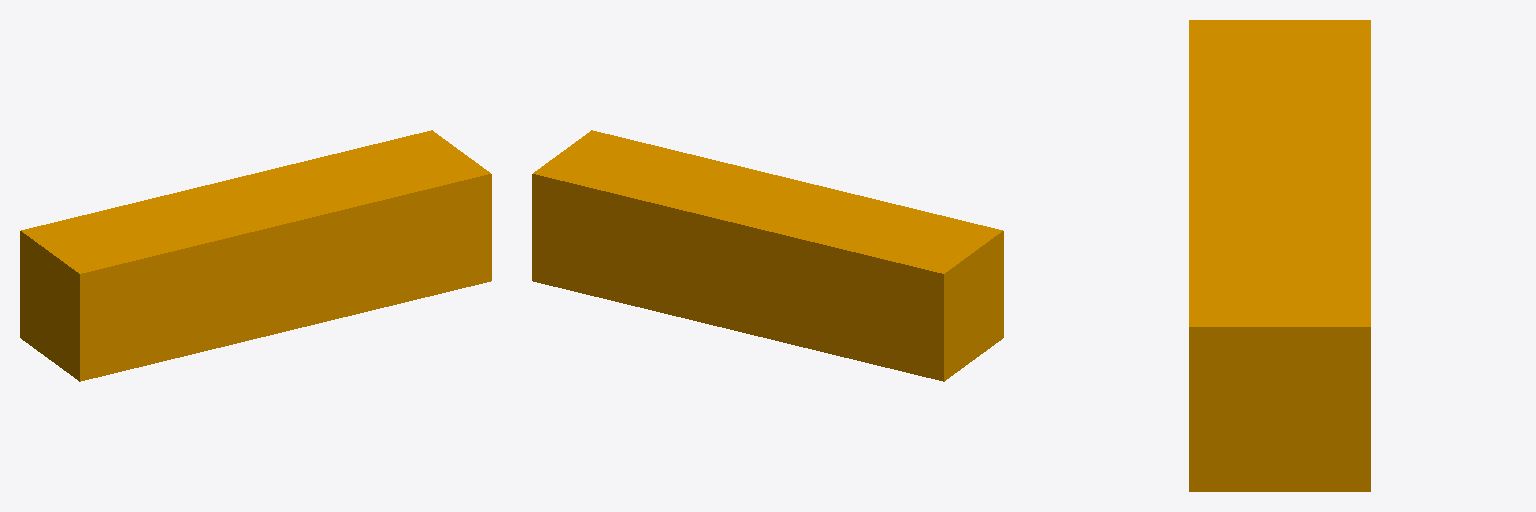
The robot description file, URDF, robot "dreamer_testbed_floating_camera":
<?xml version="1.0"?>
<robot name="dreamer_testbed_floating_camera" xmlns:controller="http://playerstage.sourceforge.net/gazebo/xmlschema/#controller" xmlns:interface="http://playerstage.sourceforge.net/gazebo/xmlschema/#interface" xmlns:sensor="http://playerstage.sourceforge.net/gazebo/xmlschema/#sensor" xmlns:xacro="http://ros.org/wiki/xacro">

  <link name="camera_link">
    <inertial>
      <mass value="0.1"/>
      <origin xyz="0 0 0" rpy="0 0 0"/>
      <inertia izz="1e-1"
               ixx="1e-1"
               iyy="1e-1"
               ixy="0" iyz="0" ixz="0"/>
    </inertial>
    <visual>
      <origin xyz="0 0 0" rpy="0 0 0"/>
      <geometry name="arm_drop_geom">
        <box size="0.08 0.02 0.02"/>
      </geometry>
    </visual>
    <collision>
      <origin xyz="0 0 0" rpy="0 0 0"/>
      <geometry name="arm_drop_col">
        <box size="0.08 0.02 0.02"/>
      </geometry>
    </collision>
  </link>

  <gazebo reference="camera_link" version="1.9">
    <material>Gazebo/Purple</material>
    <sensor type="camera" name="webcam">
      <update_rate>30.0</update_rate>
      <always_on>true</always_on>
      <visualize>true</visualize>
      <camera name="webcam">
        <horizontal_fov>1.3962634</horizontal_fov>
        <image>
          <width>800</width>
          <height>800</height>
          <format>R8G8B8</format>
        </image>
        <clip>
          <near>0.02</near>
          <far>300</far>
        </clip>
        <noise>
          <type>gaussian</type>
          <!-- Noise is sampled independently per pixel on each frame.
               That pixel's noise value is added to each of its color
               channels, which at that point lie in the range [0,1]. -->
          <mean>0.0</mean>
          <stddev>0.007</stddev>
        </noise>
      </camera>
      <plugin name="webcam1_plugin" filename="libgazebo_ros_camera.so">
        <alwaysOn>true</alwaysOn>
        <updateRate>0.0</updateRate>
        <cameraName>dreamer_testbed/webcam</cameraName>
        <imageTopicName>floating_image_raw</imageTopicName>
        <cameraInfoTopicName>floating_camera_info</cameraInfoTopicName>
        <frameName>camera_link</frameName>
        <hackBaseline>0.07</hackBaseline>
        <distortionK1>0.0</distortionK1>
        <distortionK2>0.0</distortionK2>
        <distortionK3>0.0</distortionK3>
        <distortionT1>0.0</distortionT1>
        <distortionT2>0.0</distortionT2>
      </plugin>
    </sensor>
  </gazebo>

  <gazebo version='1.2'>
    <!-- The following plugin pins the robot to the world. -->
    <!-- <plugin filename="libPinPlugin.so" name="PinPlugin_FloatingCamera">
        <pin_root_link>1</pin_root_link>
    </plugin> -->
    <static>true</static>
  </gazebo>
</robot>

--- Render facts (derived) ---
The picture shows the robot from 3 angles, left to right: view 1: azimuth 30°, elevation 25°; view 2: azimuth 150°, elevation 25°; view 3: azimuth 270°, elevation 25°; orthographic projection.
Model dreamer_testbed_floating_camera with 1 links and 0 joints (none), rooted at camera_link, posed all joints at 0.
Visible links, largest first — view 1: camera_link; view 2: camera_link; view 3: camera_link.
Boxes of the visible links, <box> form: camera_link: <box>20,130,491,381</box>; camera_link: <box>532,130,1003,381</box>; camera_link: <box>1189,20,1370,491</box>.
Bounding box of the posed robot: 0.08 × 0.02 × 0.02 m (x, y, z).
Geometry: primitives only (box / cylinder / sphere), no mesh files.